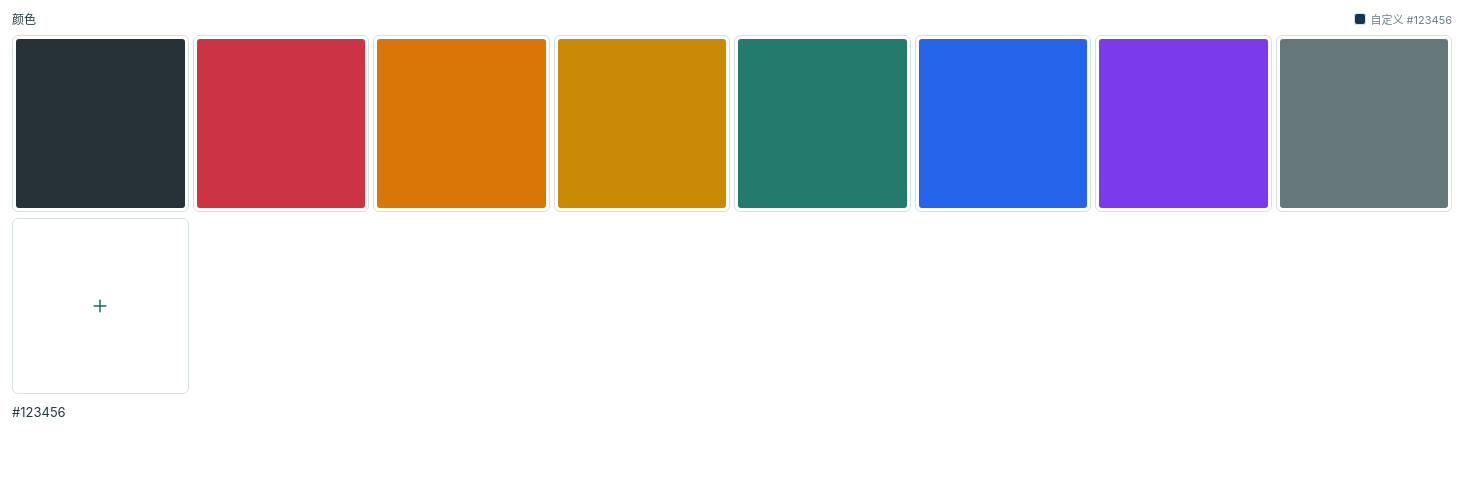
Test: ColorField › shows document colors without saving them and opens the picker with the add swatch
Expected: the text "自定义 #123456" is shown, [1354,10,1452,26]
Click the button named "自定义线条颜色".
click(100, 306)  # box [12,218,188,394]
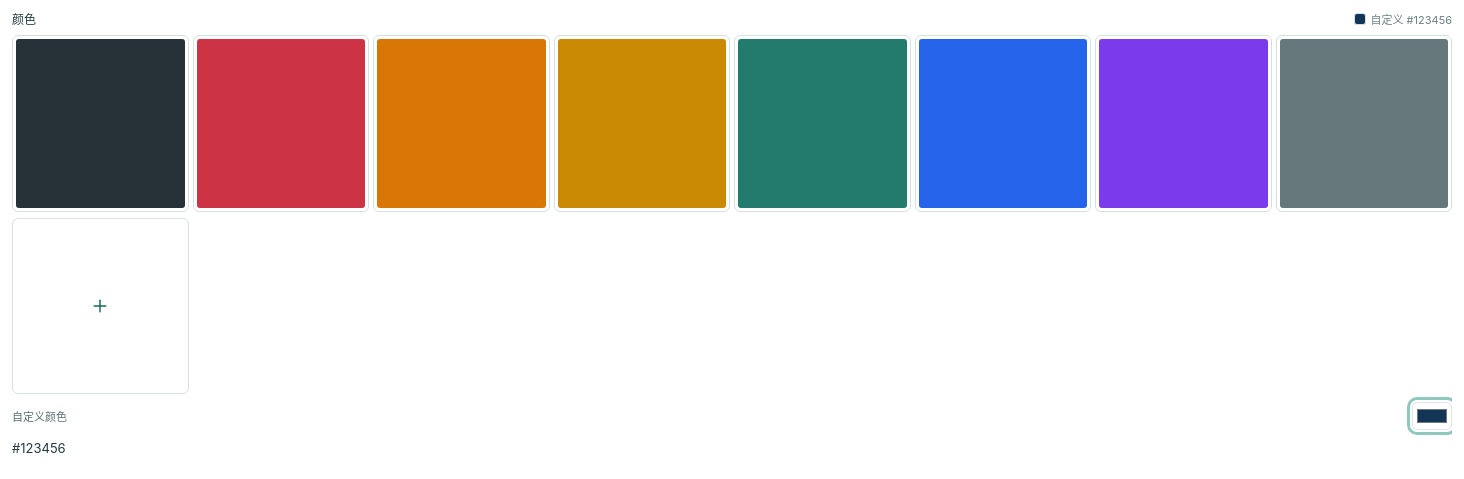
Expected: the colour field named "线条颜色" is shown
Expected: the colour field named "线条颜色" holds "#123456"
Type "#abcdef" into the colour field named "线条颜色".
click(1432, 416); type("#abcdef")  # box [1412,402,1452,430]
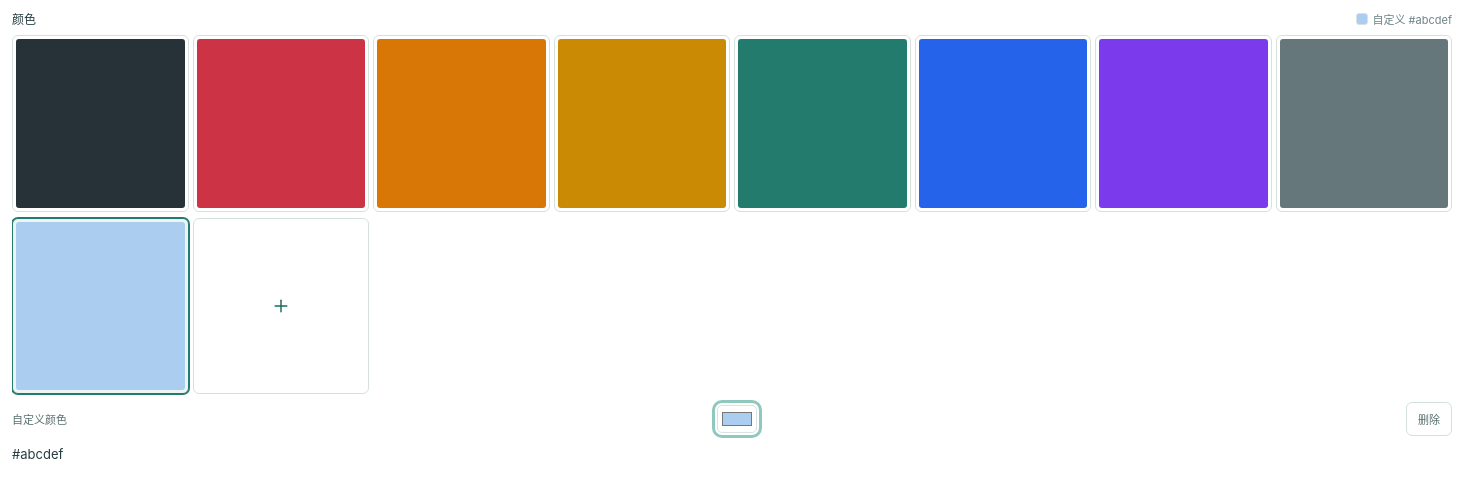
Expected: the text named "已应用颜色" reads "#abcdef", [12,446,63,462]
Expected: the text "自定义 #abcdef" is shown, [1356,10,1452,26]
Type "#2563eb" into the colour field named "线条颜色".
click(736, 419); type("#2563eb")  # box [716,405,756,433]
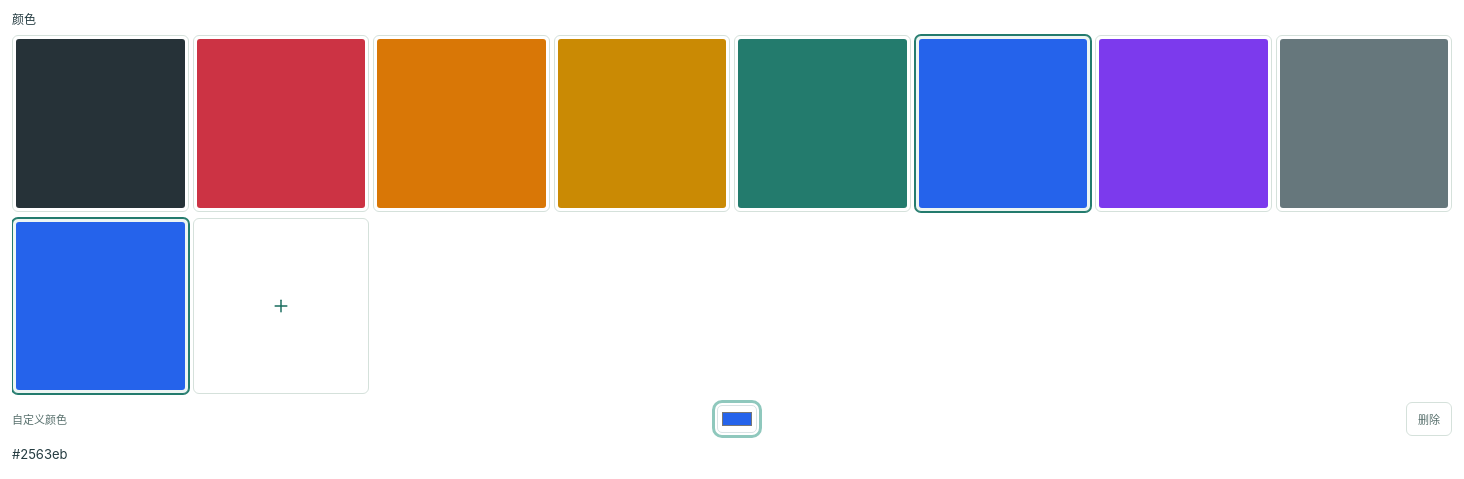
Expected: the text "自定义 #" is gone
Click the button named "自定义线条颜色".
click(281, 306)  # box [192,218,369,394]
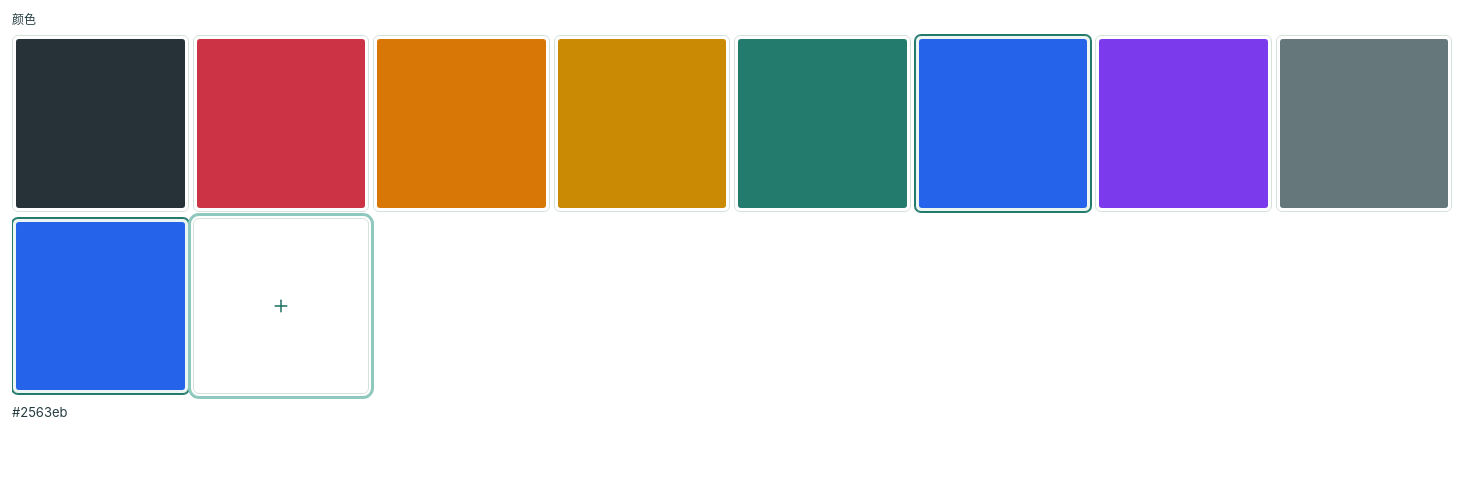
Expected: the colour field labelled "线条颜色" is gone
